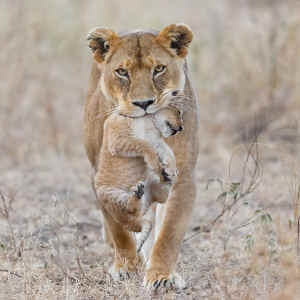lion: (79, 25, 201, 300), (93, 93, 186, 230)
